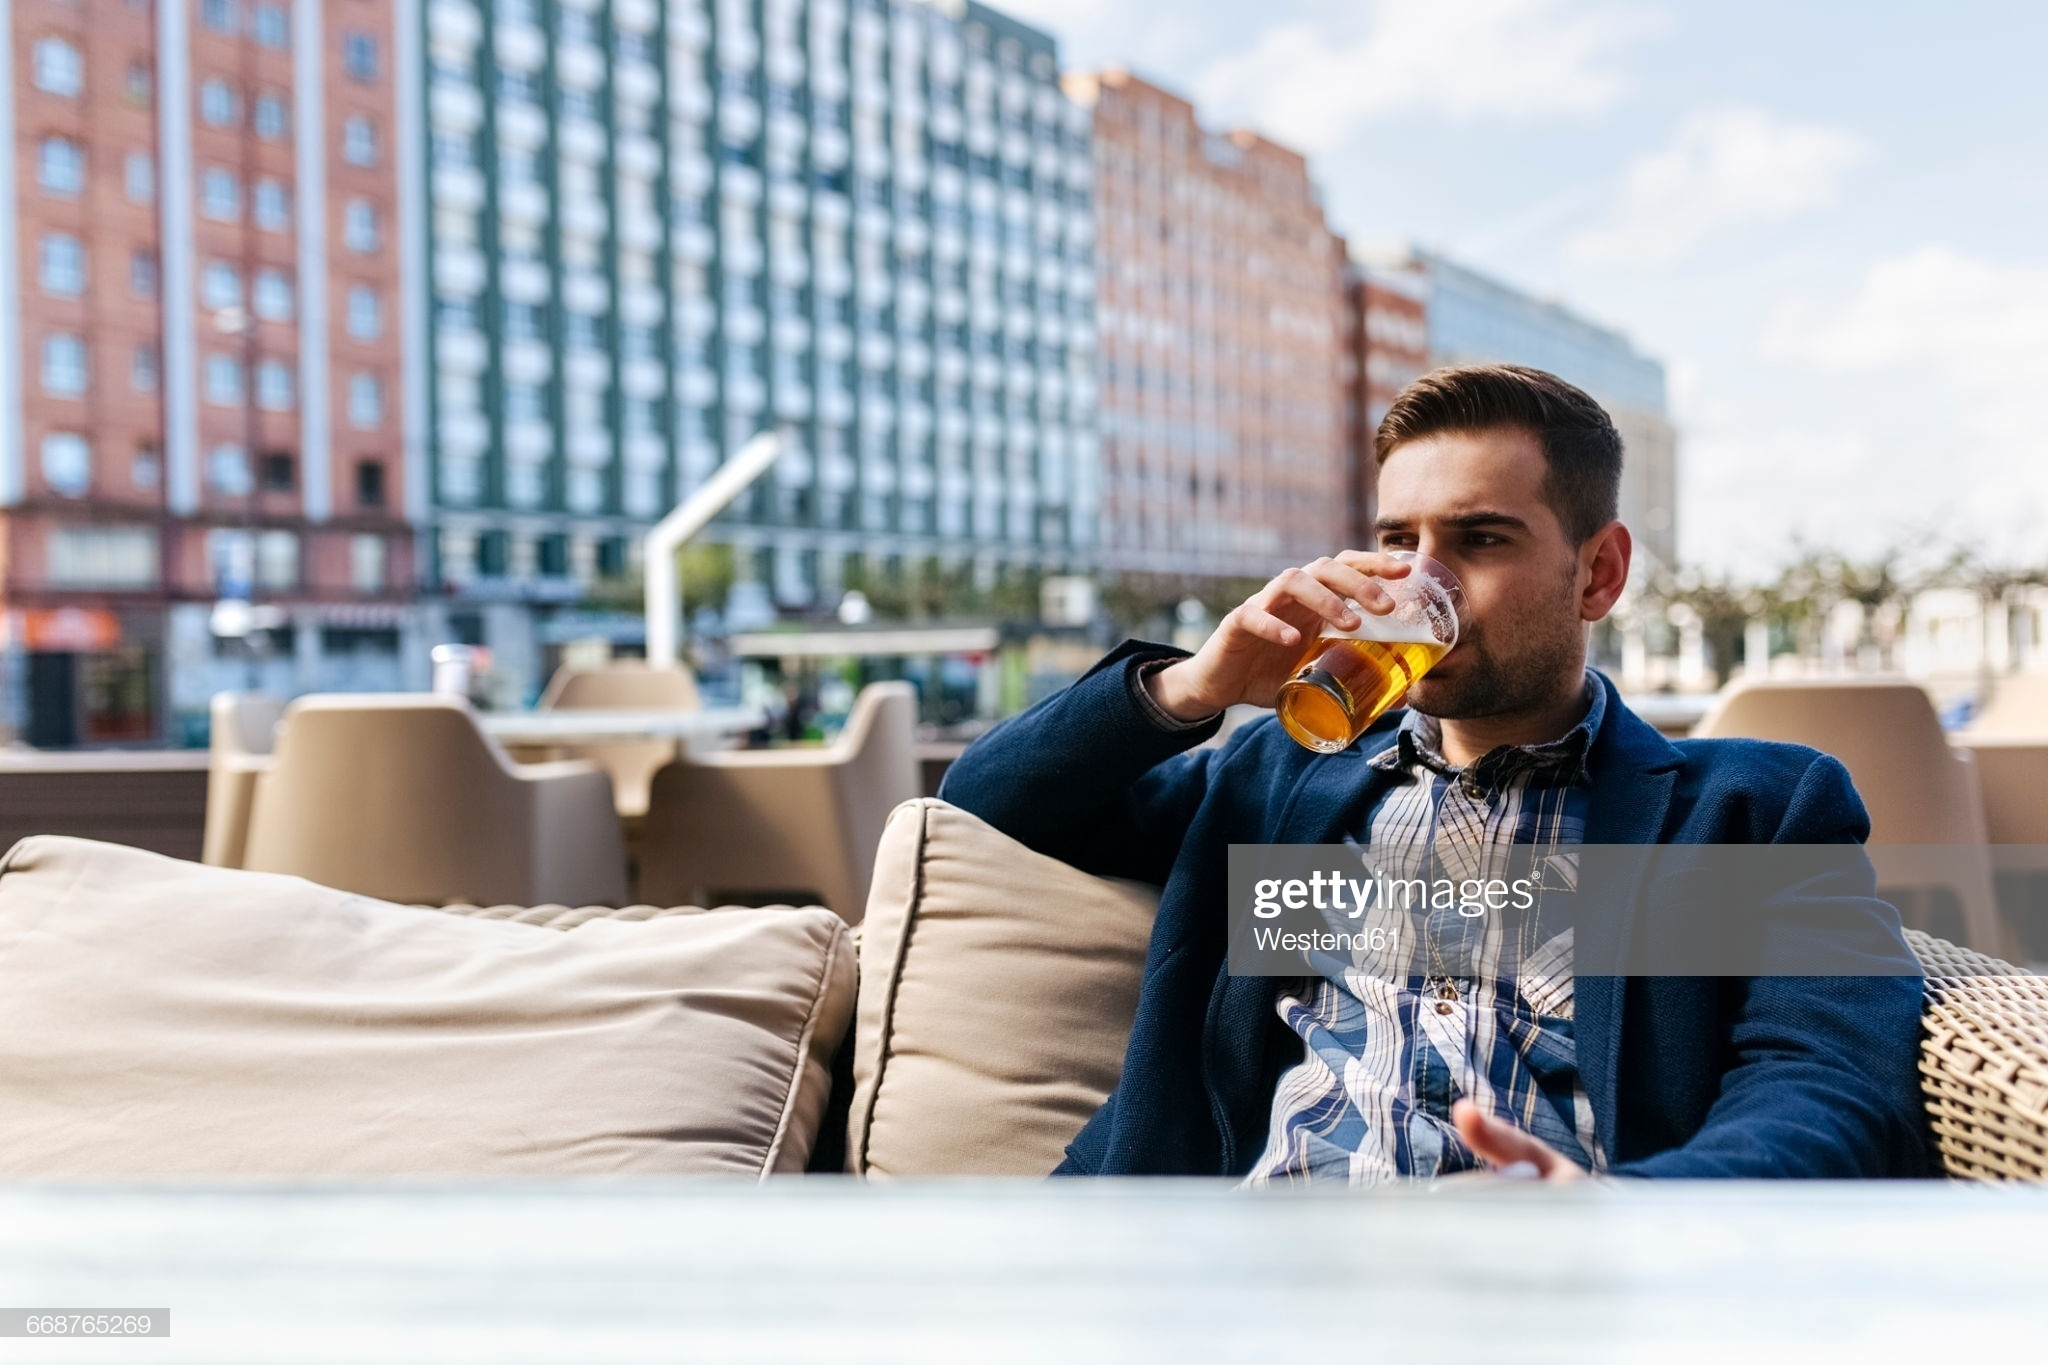whiskey: (1291, 555, 1453, 760)
